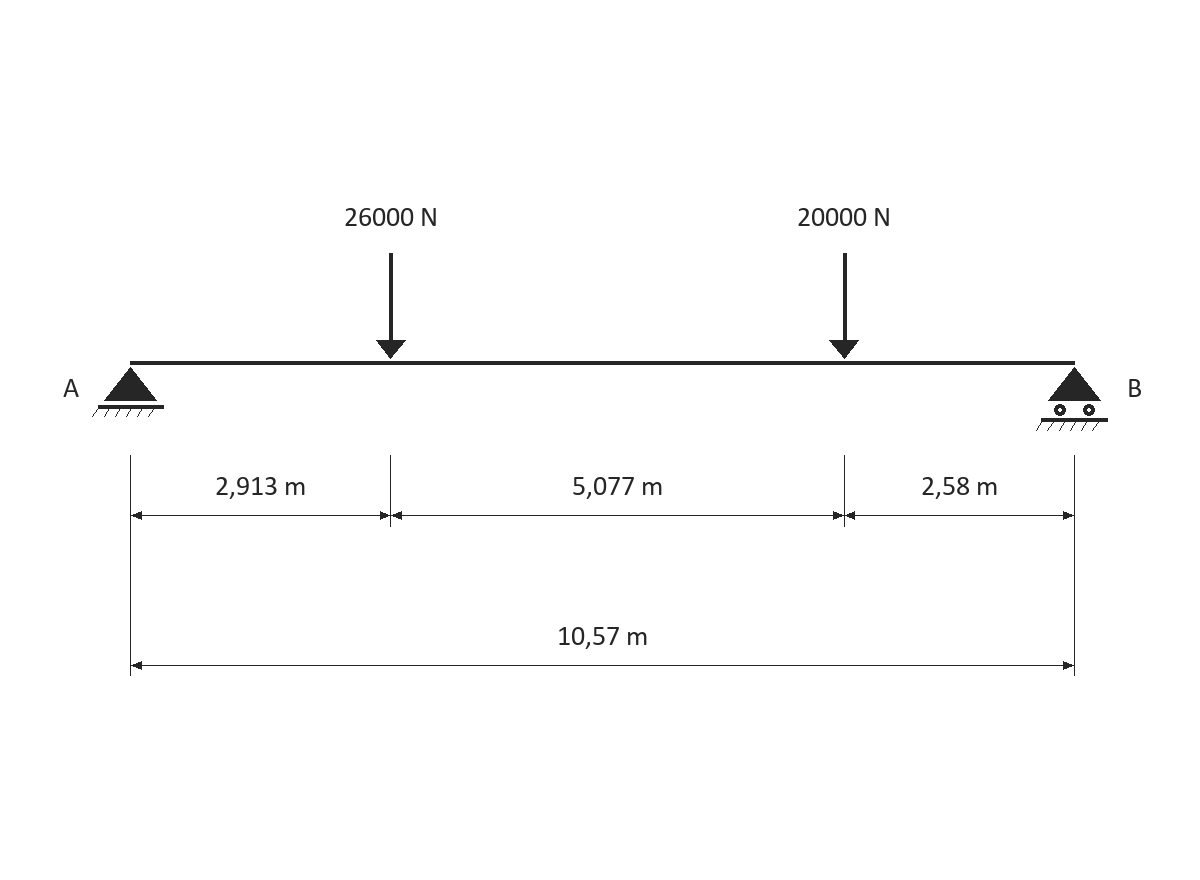pin_support: (92, 367, 164, 417)
point_load: (376, 253, 406, 359), (829, 253, 859, 359)
roller_support: (1036, 367, 1108, 431)
